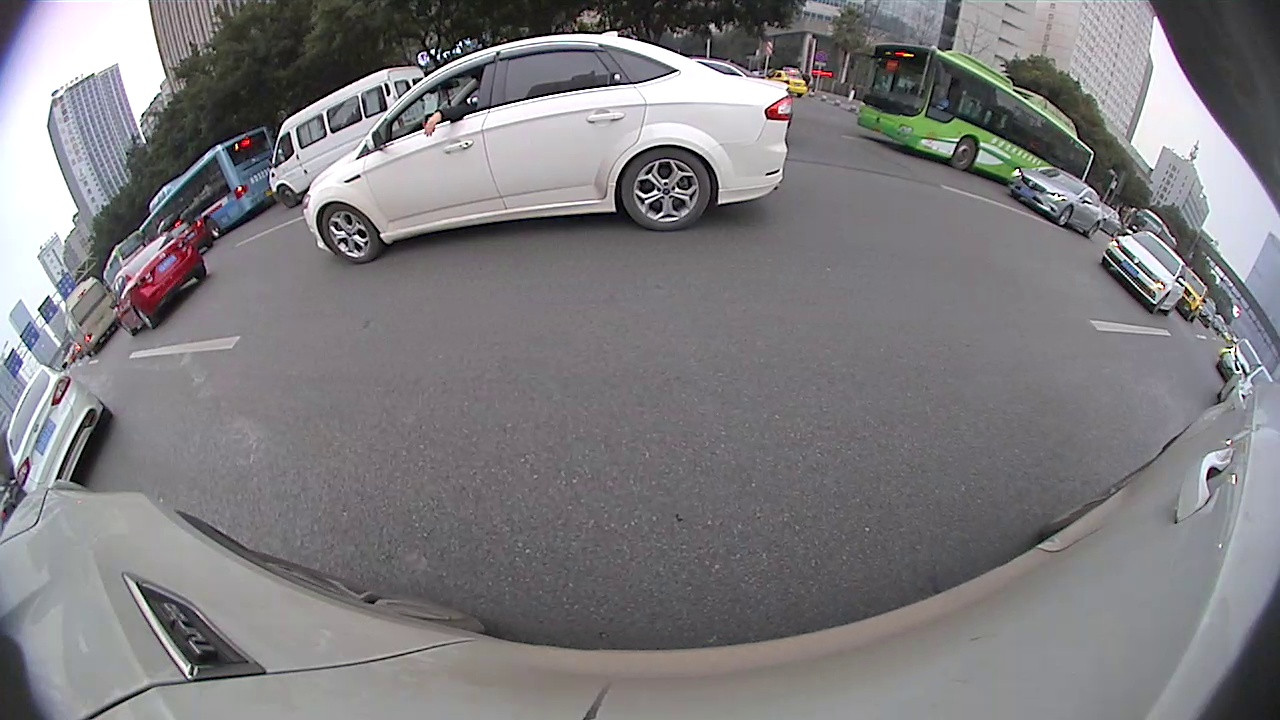bus: (856, 46, 1092, 181), (138, 129, 277, 237), (66, 279, 118, 356)
car: (306, 32, 795, 265), (268, 65, 427, 208), (8, 364, 110, 493), (112, 236, 208, 335), (1101, 231, 1186, 315), (1007, 168, 1105, 238)
front: (318, 201, 381, 264), (950, 133, 979, 172), (275, 184, 298, 209), (1060, 201, 1073, 228)
rear: (619, 146, 713, 234), (133, 305, 154, 331), (206, 216, 223, 240), (1088, 220, 1100, 238)
